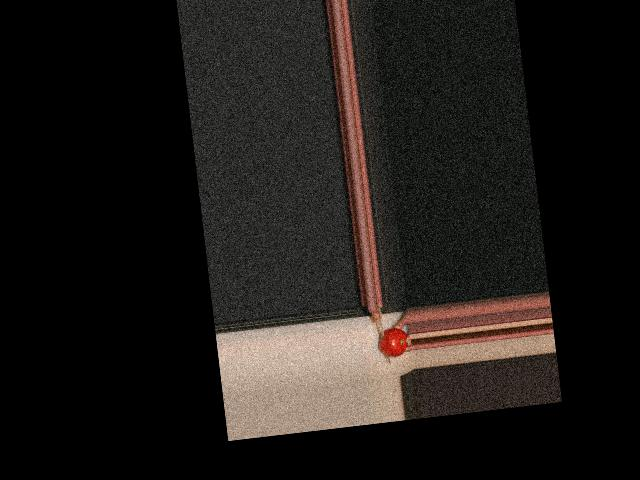tomato: (377, 327, 409, 359)
